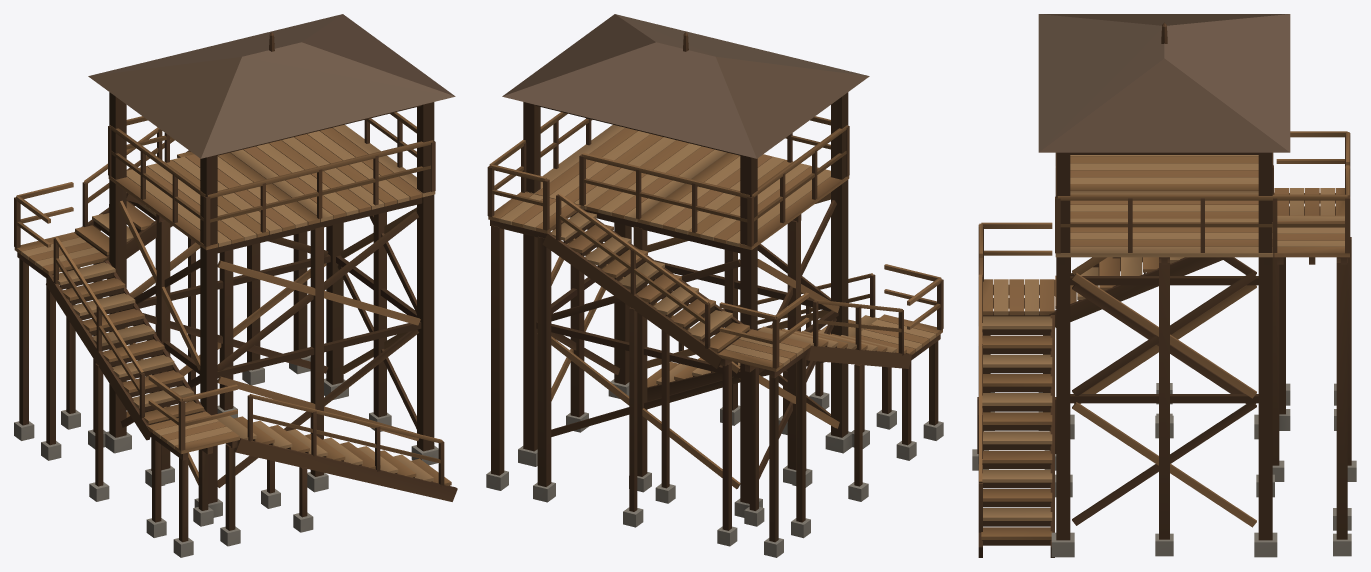
The model's file is lookout_tower.glb.
The picture shows the model from 3 angles, left to right: view 1: azimuth 30°, elevation 25°; view 2: azimuth 150°, elevation 25°; view 3: azimuth 270°, elevation 25°; orthographic projection. The views are drawn at different scales.
Parts seen in each view (by area): view 1: lookout_tower; view 2: lookout_tower; view 3: lookout_tower.
Part boxes in pixels (left/top/right/bottom): lookout_tower: left=14, top=14, right=457, bottom=557; lookout_tower: left=486, top=14, right=943, bottom=557; lookout_tower: left=972, top=14, right=1356, bottom=557.
Bounding box in the file's own units: 7.21 × 9.74 × 7.02.
